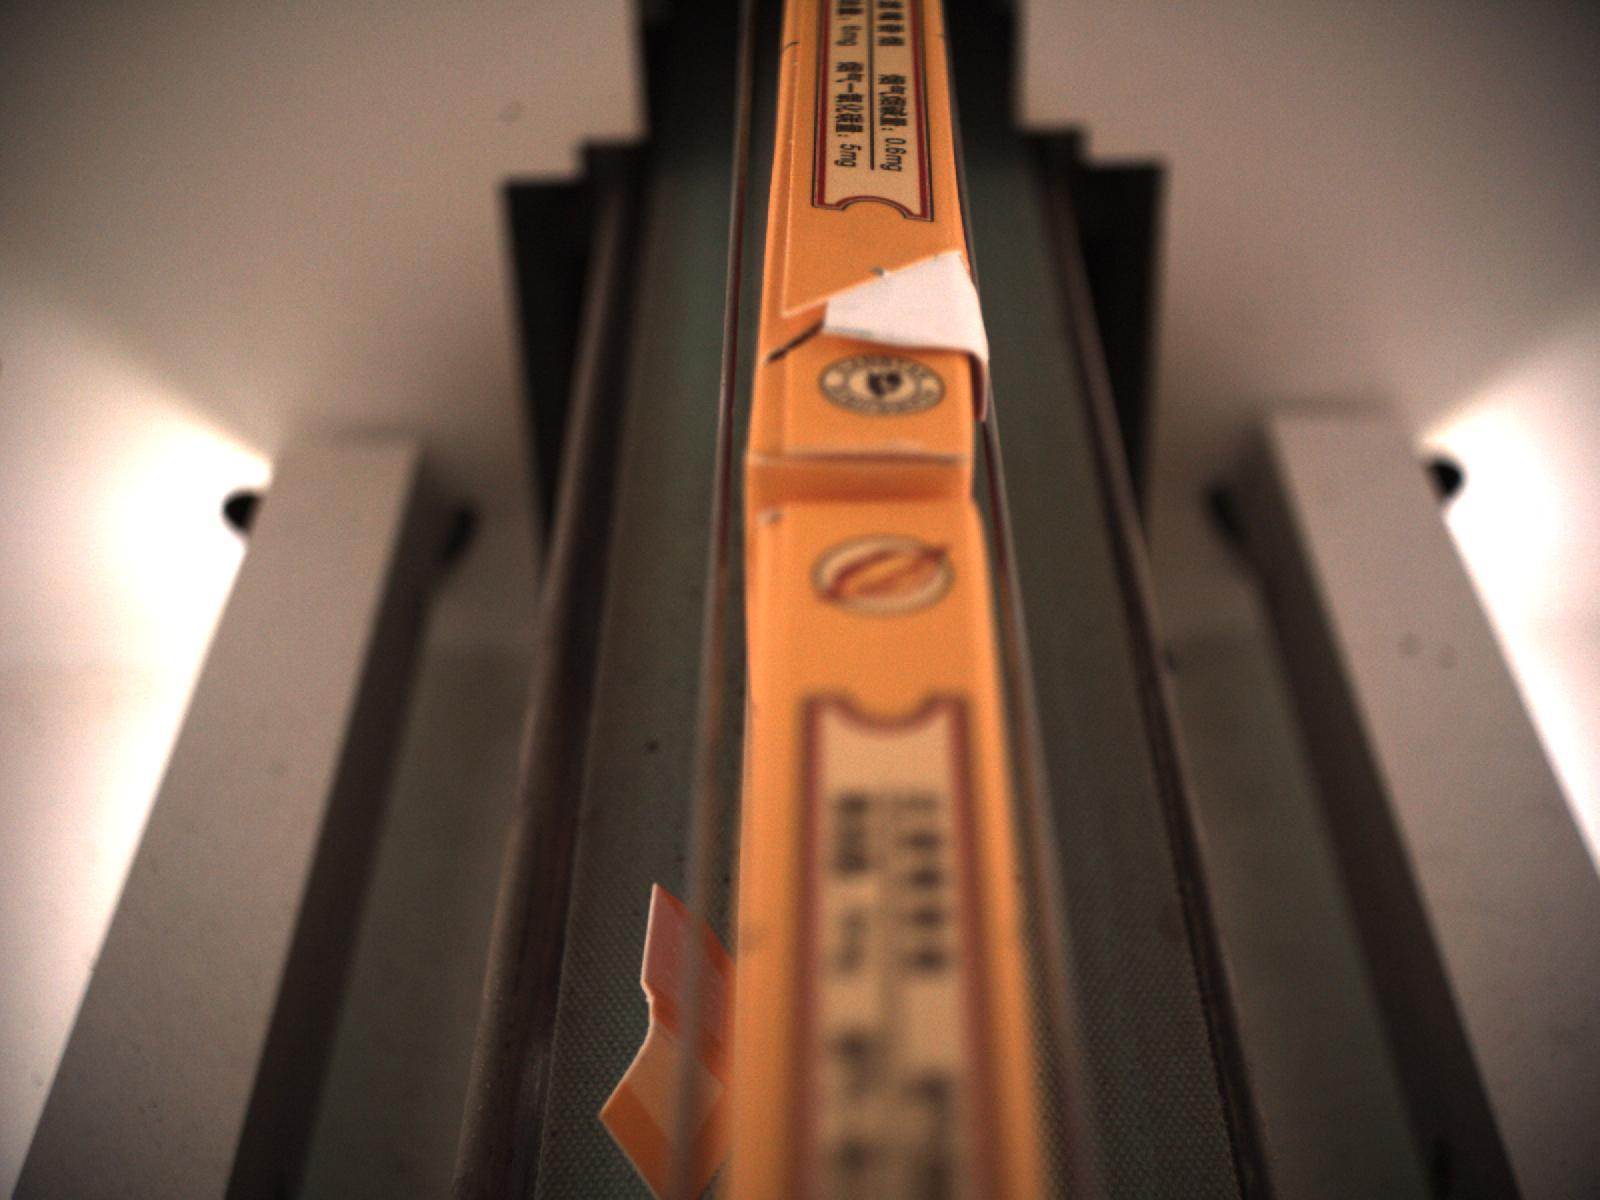frame: (823, 247, 989, 355)
headDamage_upper_2: (750, 349, 973, 473)
skewed_upper_2: (761, 23, 823, 357)
